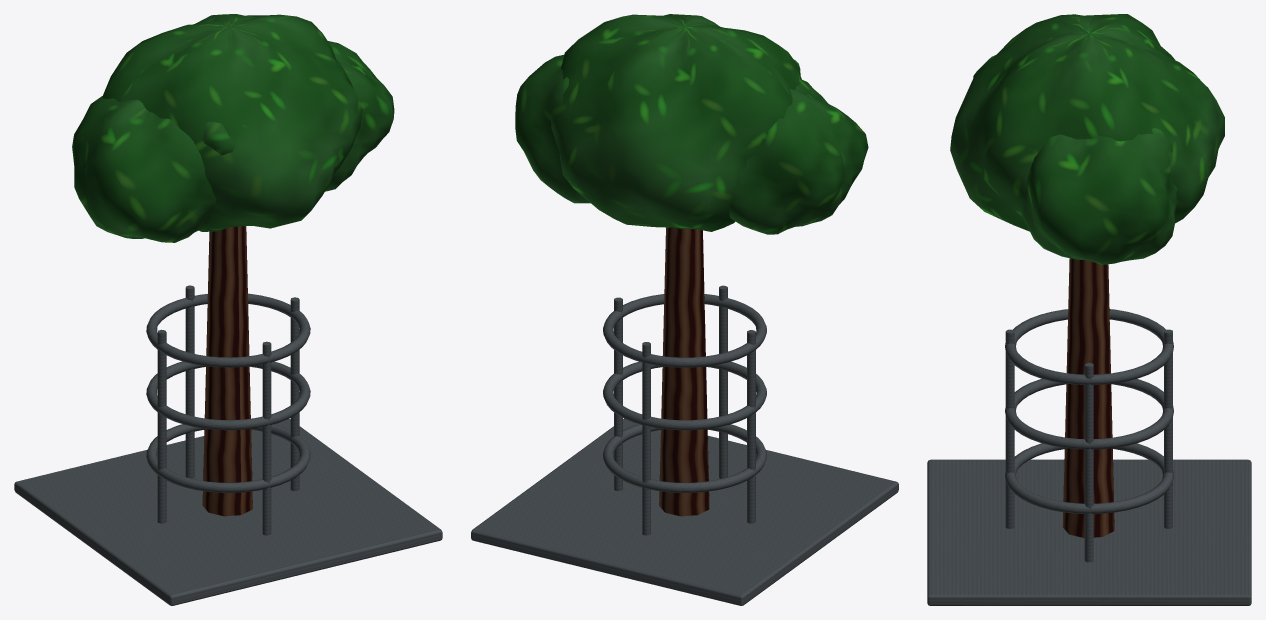
The model's file is street-tree-grate.lod0.gltf.
3 views of the same model, side by side, from view 1: azimuth 30°, elevation 25°; view 2: azimuth 150°, elevation 25°; view 3: azimuth 270°, elevation 25° (orthographic). The views are drawn at different scales.
Visible parts, largest first — view 1: street-tree-grate; view 2: street-tree-grate; view 3: street-tree-grate.
Boxes of the visible parts, left/top/right/bottom form: street-tree-grate: left=14, top=14, right=442, bottom=605; street-tree-grate: left=471, top=14, right=898, bottom=605; street-tree-grate: left=927, top=14, right=1251, bottom=605.
Bounding box in the file's own units: 2.31 × 3.53 × 2.05.
Materials: 3 (3 with a texture image).
